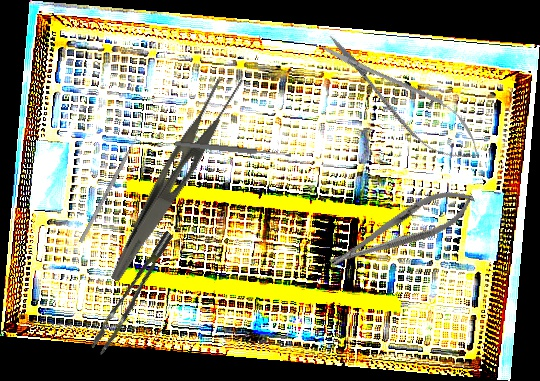Dressing Forceps: (108, 64, 248, 295)
Micro Scissor: (310, 22, 494, 176)
Needle Holder: (322, 178, 481, 281)
Pusher: (78, 126, 144, 244)
Surgical Spoon: (174, 139, 292, 160)
Tissue Forceps: (79, 230, 189, 356)
